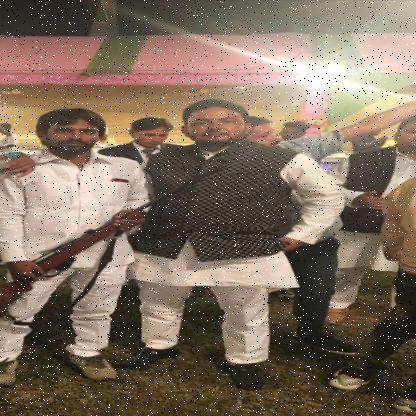rifle: (0, 157, 236, 314)
